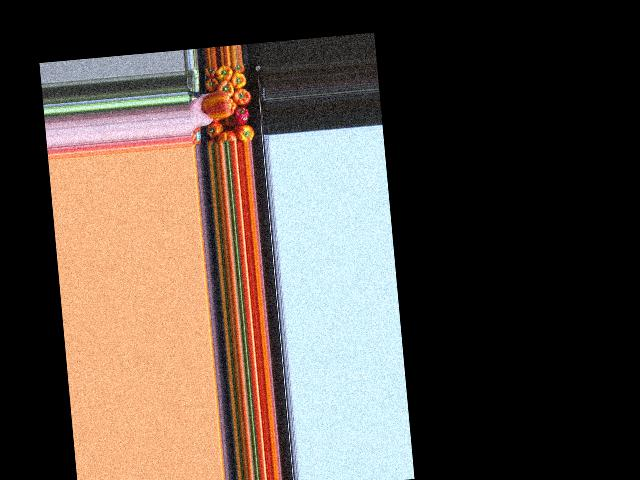bell_pepper: (208, 120, 224, 139)
